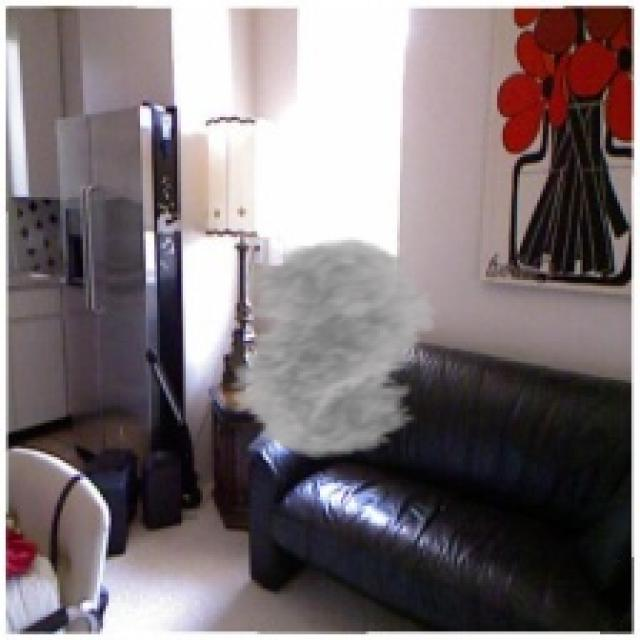smoke: (203, 237, 457, 460)
